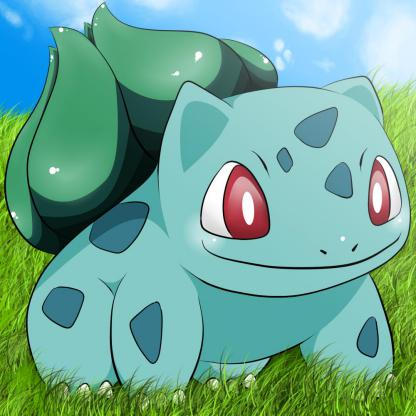Bulbasaur: (1, 1, 416, 403)
